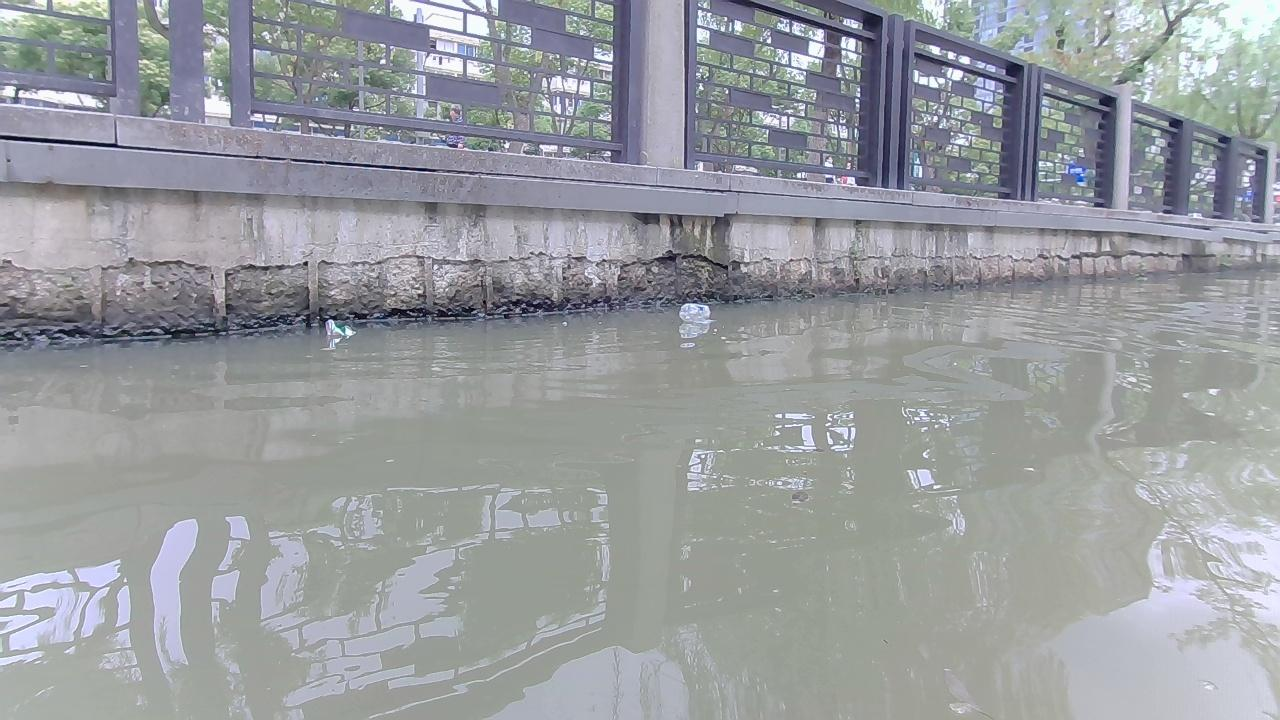bottle: (677, 303, 710, 320), (324, 318, 354, 335)
